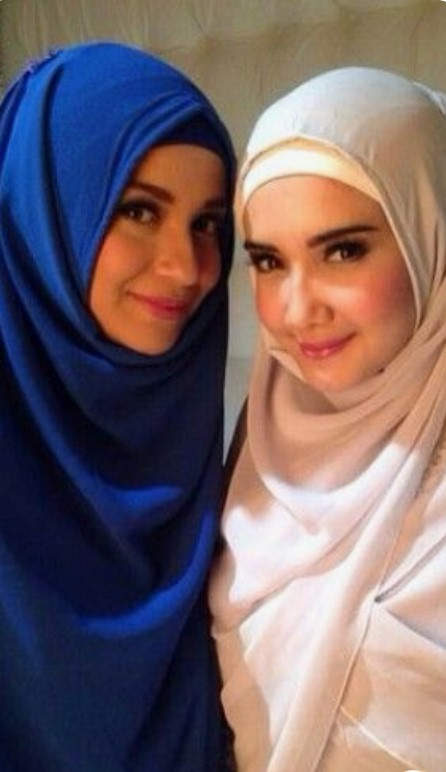face_no_mask: (240, 141, 423, 396), (78, 108, 235, 378)
